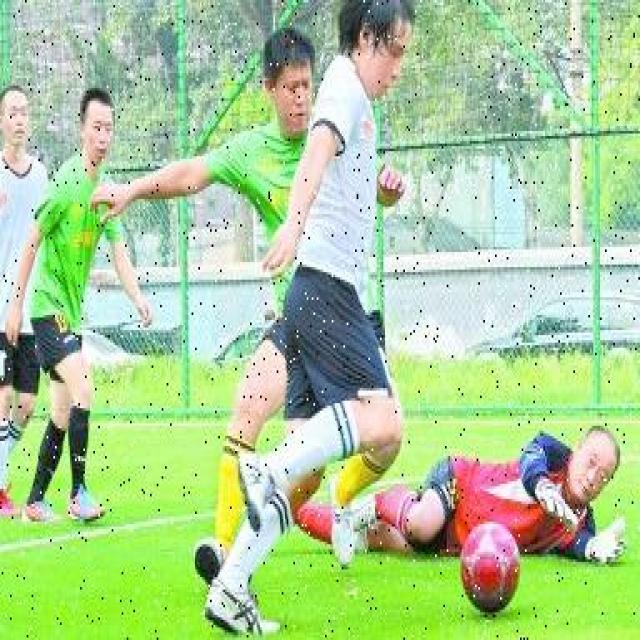fall: (322, 431, 632, 559)
